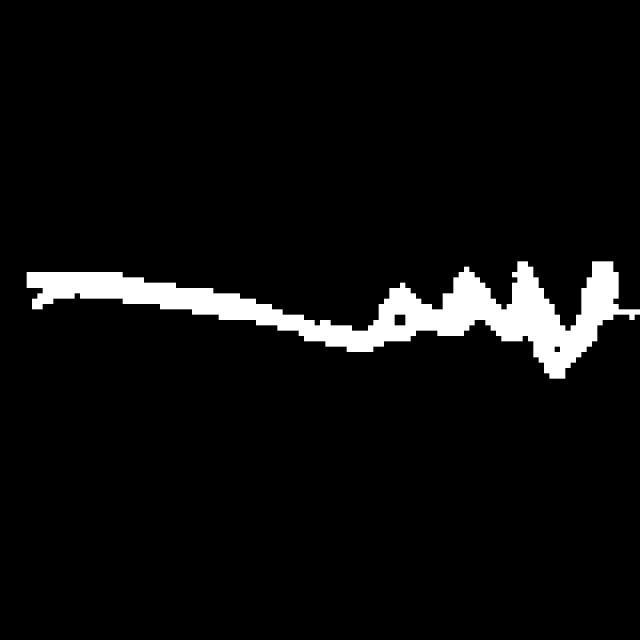resistor: (341, 251, 640, 389)
